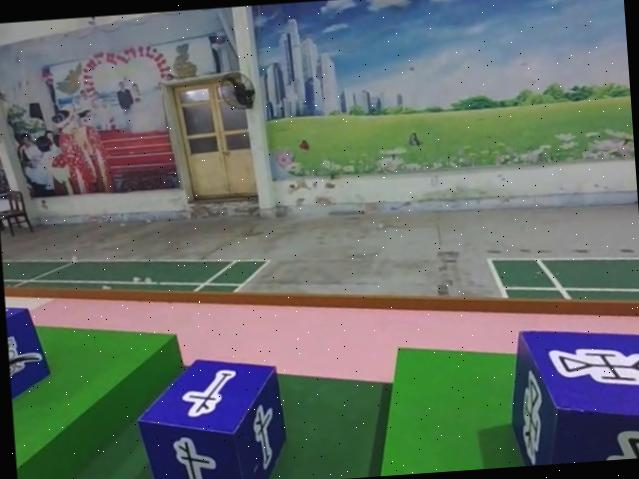R1 Blue: (4, 300, 52, 418)
R2 Real Blue: (134, 353, 290, 479), (506, 321, 639, 465)
